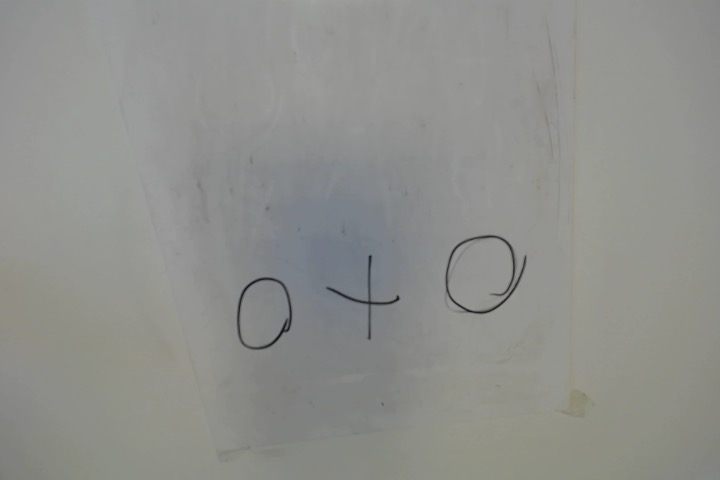0: (441, 234, 536, 320), (235, 274, 298, 353)
x: (322, 248, 402, 346)
